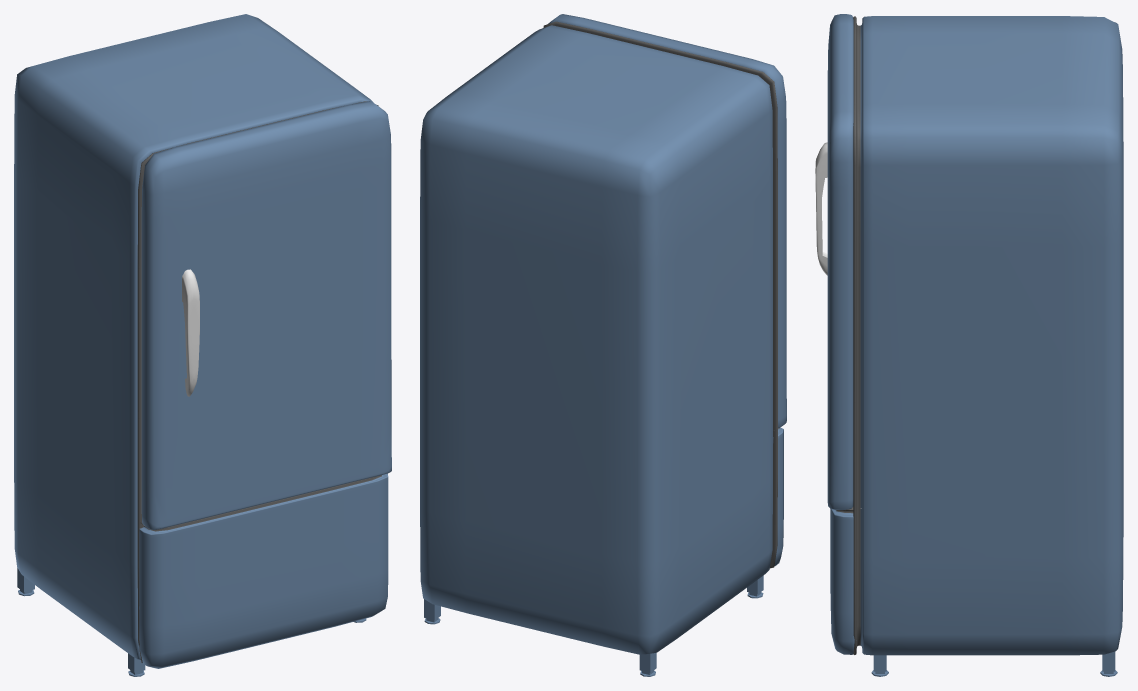
Rendered from kyl.fbx.
3 views of the same model, side by side, from view 1: azimuth 30°, elevation 25°; view 2: azimuth 150°, elevation 25°; view 3: azimuth 270°, elevation 25° (orthographic). The views are drawn at different scales.
Parts seen in each view (by area): view 1: Door, kyl, Frys, ben; view 2: kyl, Door, ben, Frys; view 3: kyl, Door, Frys, ben.
Boxes of the visible parts, box(x1,y1,x2,y2) form: Door: box(141, 101, 391, 529); kyl: box(14, 14, 378, 662); Frys: box(139, 473, 388, 668); ben: box(17, 568, 366, 676); kyl: box(420, 21, 777, 654); Door: box(548, 14, 786, 427); ben: box(424, 575, 763, 676); Frys: box(773, 427, 783, 566); kyl: box(853, 16, 1123, 655); Door: box(815, 14, 853, 509); Frys: box(830, 507, 856, 654); ben: box(871, 651, 1117, 676).
Size of the model in its own units: 80 by 166 by 84.07.
